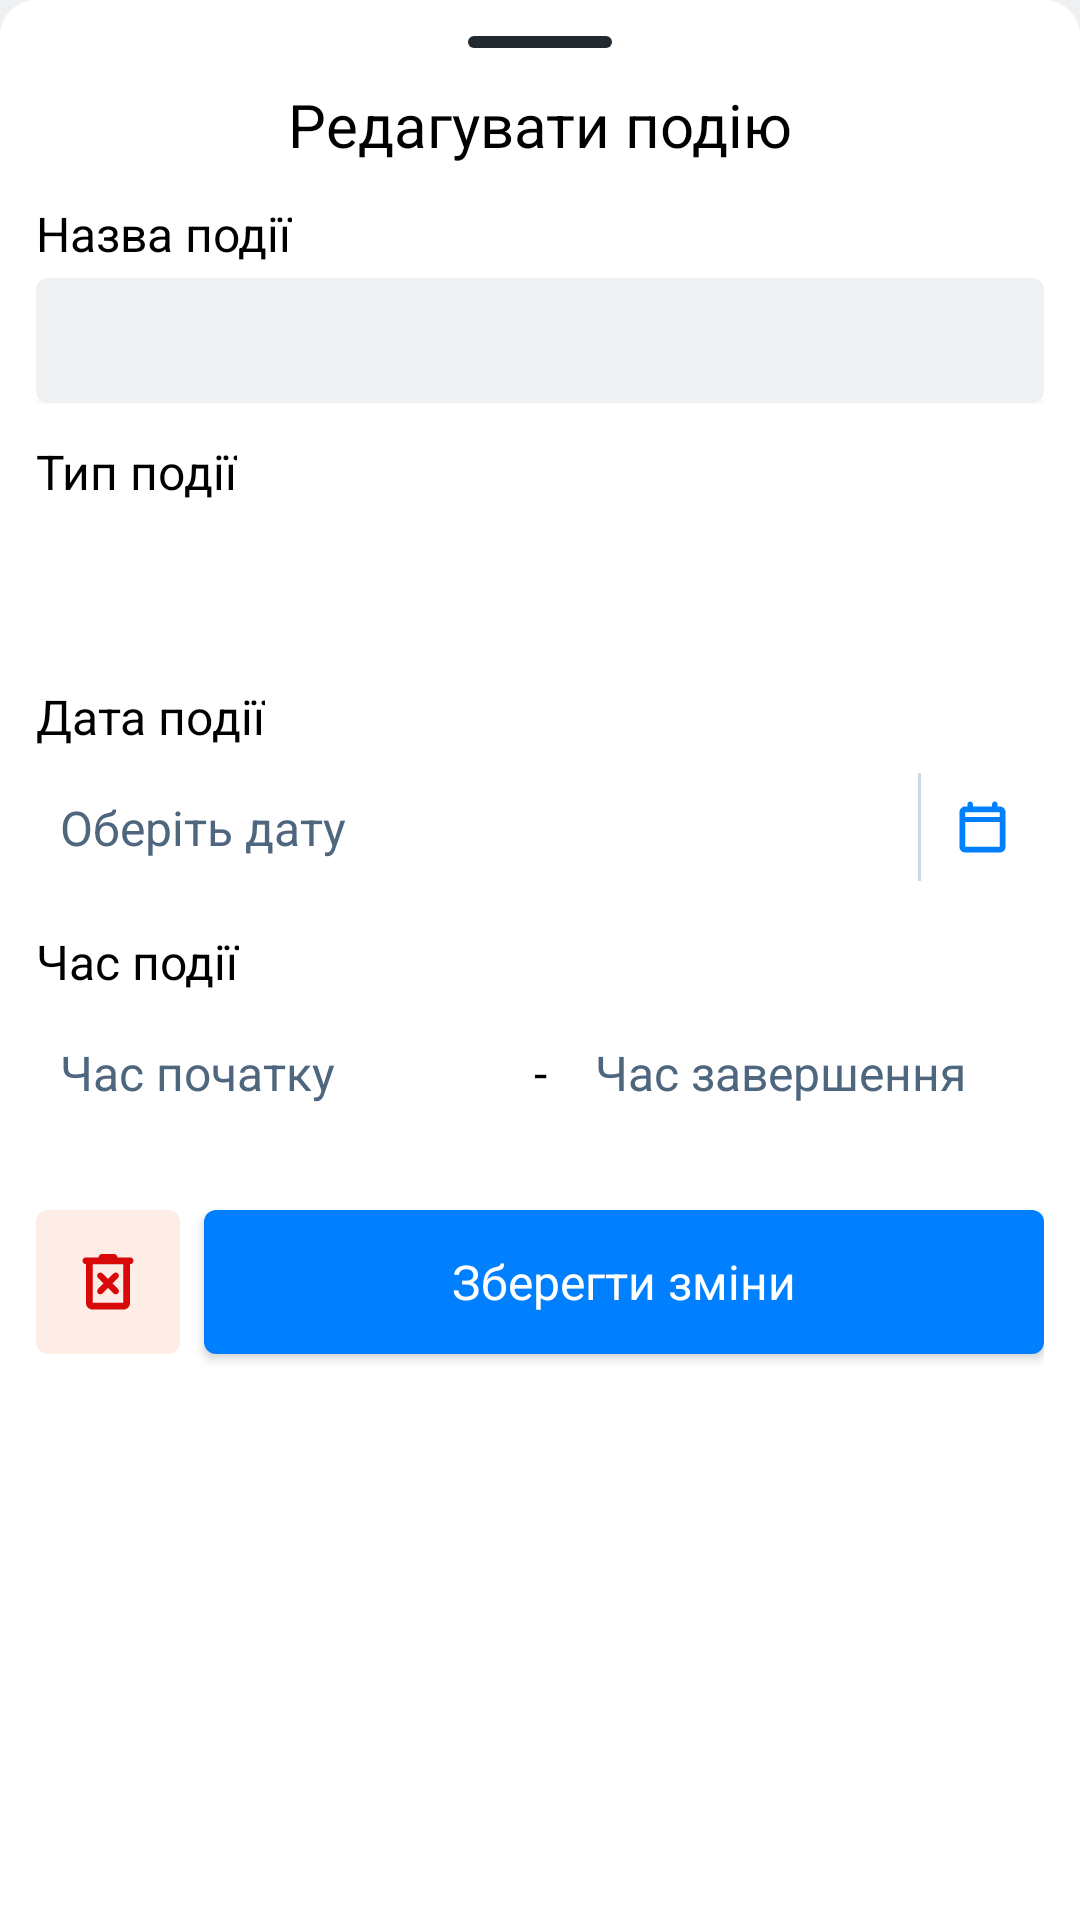

Icons on this 1080 × 1920 Android screen, each with the point to tap as [x,y]:
calendar today: [982,827]
delete forever: [108,1282]
